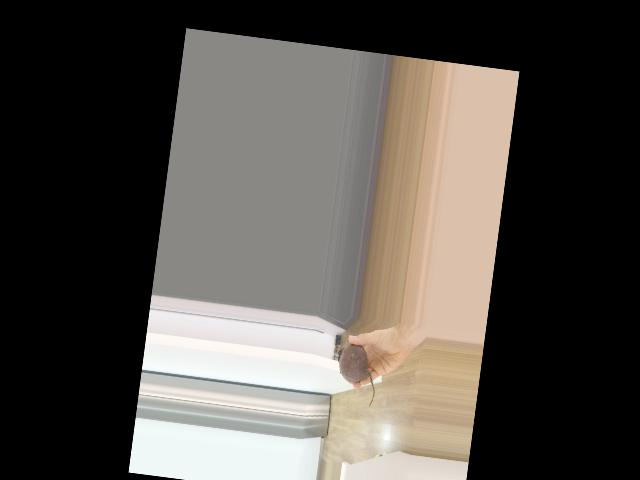beet: (332, 342, 380, 407)
